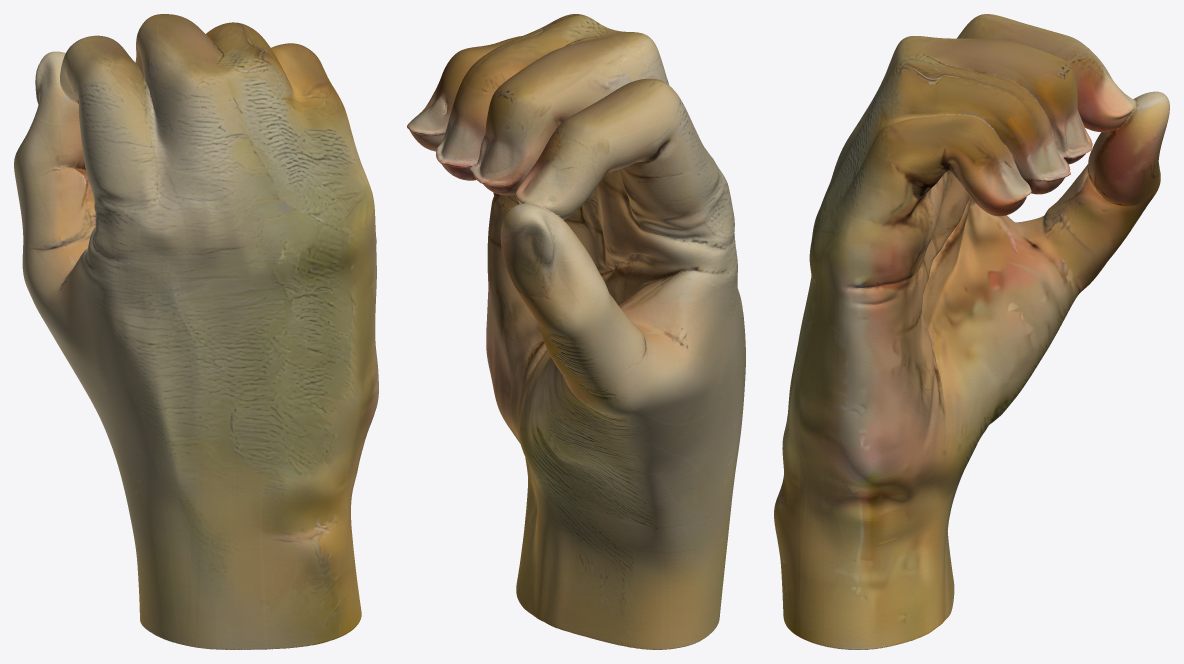
The model's file is letter_O.glb.
3 renders of one model, left to right at view 1: azimuth 30°, elevation 25°; view 2: azimuth 150°, elevation 25°; view 3: azimuth 270°, elevation 25°, orthographic. The views are drawn at different scales.
Visible parts, largest first — view 1: tripo_node_18774fd5-2caa-4088-a269-75d0e573b55e; view 2: tripo_node_18774fd5-2caa-4088-a269-75d0e573b55e; view 3: tripo_node_18774fd5-2caa-4088-a269-75d0e573b55e.
Boxes of the visible parts, x1,y1,x2,y2 form: tripo_node_18774fd5-2caa-4088-a269-75d0e573b55e: (14,14,378,649); tripo_node_18774fd5-2caa-4088-a269-75d0e573b55e: (407,14,745,649); tripo_node_18774fd5-2caa-4088-a269-75d0e573b55e: (774,14,1169,649).
Bounding box in the file's own units: 0.4937 × 1 × 0.646.
Materials: 1 (1 with a texture image).
